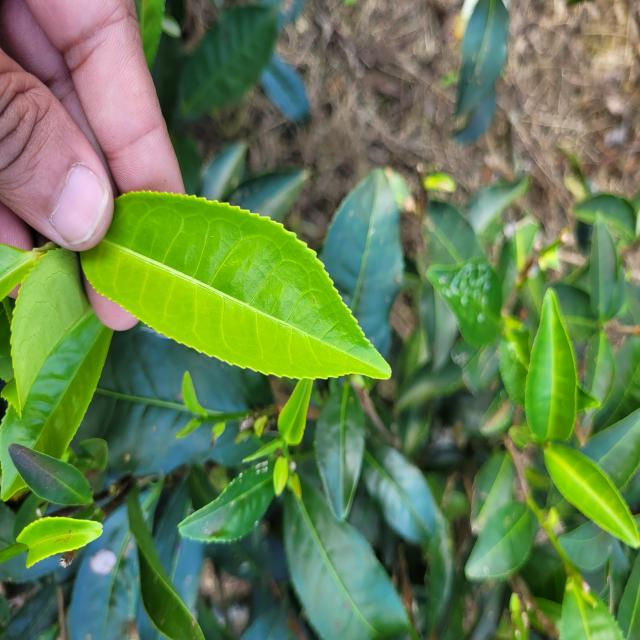Category B 2-4 days: (61, 150, 404, 410)
